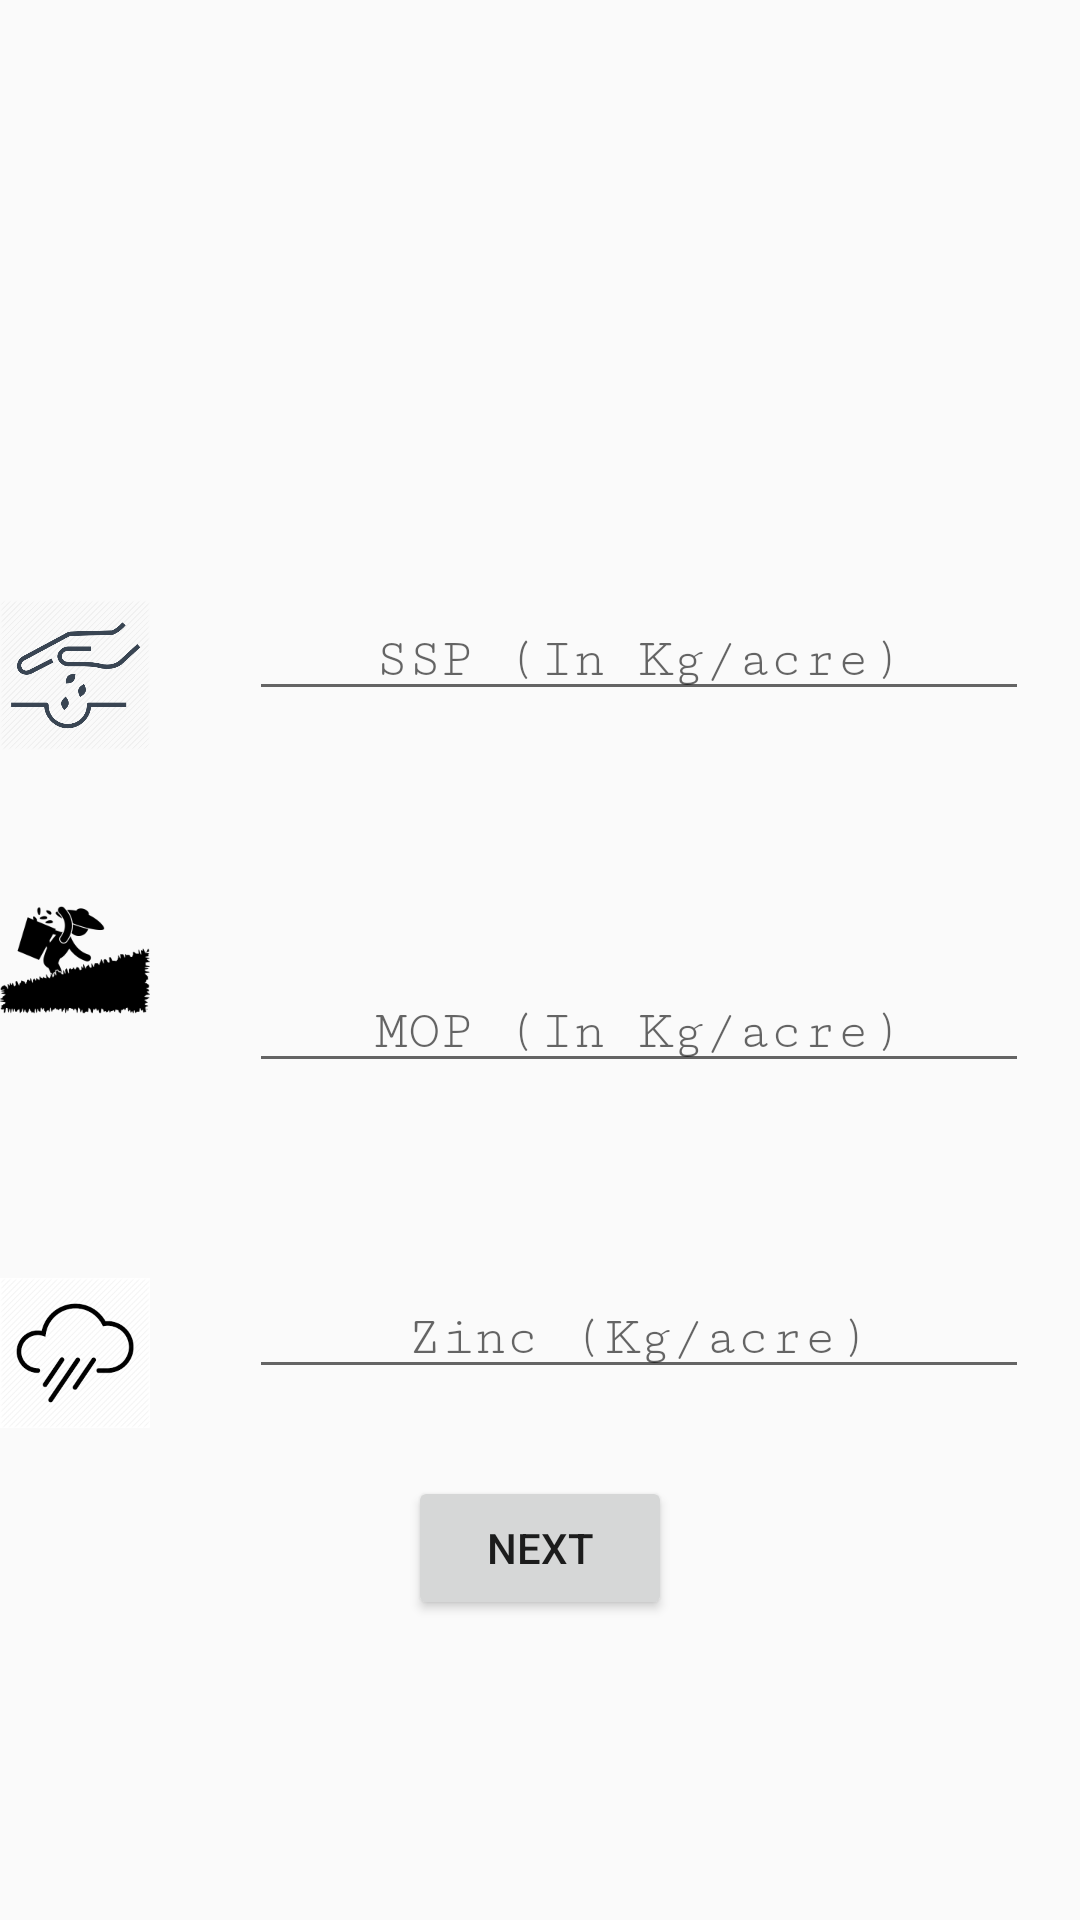

Named icons in this screenshot (1080x1920) and their centers, [x,y]:
rain: [75,1353]
